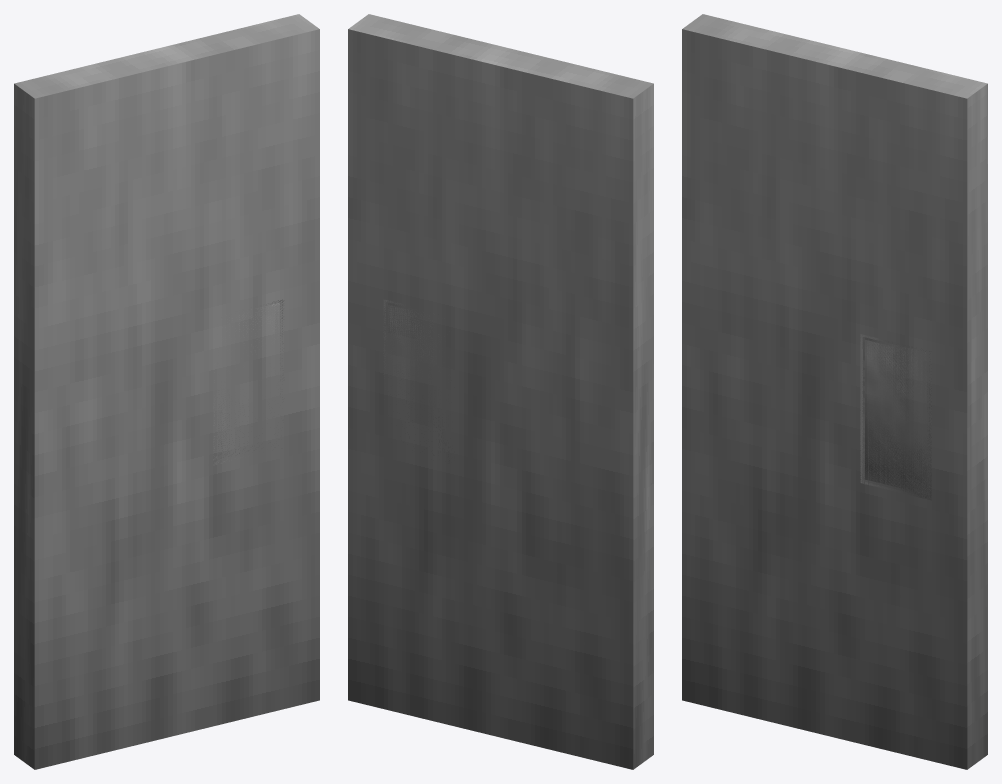
The model's file is grey-swinging-door.glb.
3 views of the same model, side by side, from view 1: azimuth 30°, elevation 25°; view 2: azimuth 150°, elevation 25°; view 3: azimuth 330°, elevation 25° (orthographic).
Parts seen in each view (by area): view 1: Room02_primary; view 2: Room02_primary; view 3: Room02_primary.
Part boxes in pixels (x1,y1,x2,y2): Room02_primary: (14, 14, 319, 769); Room02_primary: (348, 14, 653, 769); Room02_primary: (682, 14, 987, 769).
Size of the model in its own units: 700 by 1575 by 88.
Materials: 2 (2 with a texture image).
